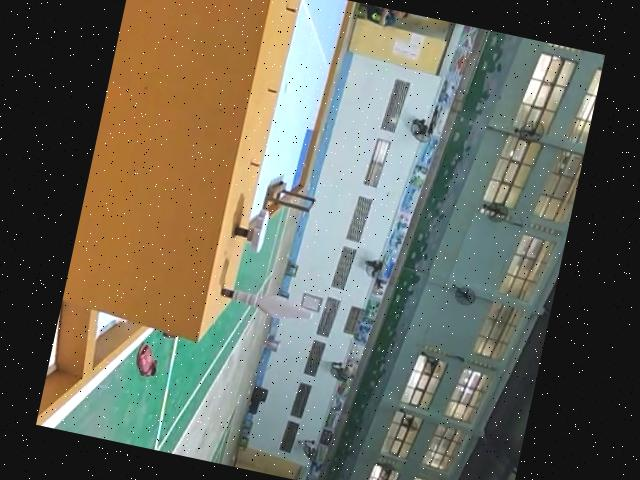Hand: (230, 201, 273, 256)
Sph: (214, 280, 317, 326)
